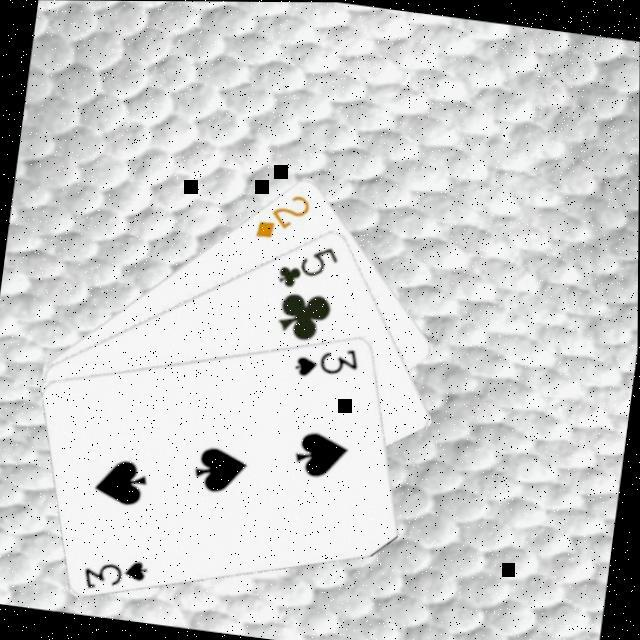2D: (252, 184, 316, 245)
3S: (292, 336, 364, 384), (81, 548, 153, 596)
5C: (274, 235, 344, 295)
